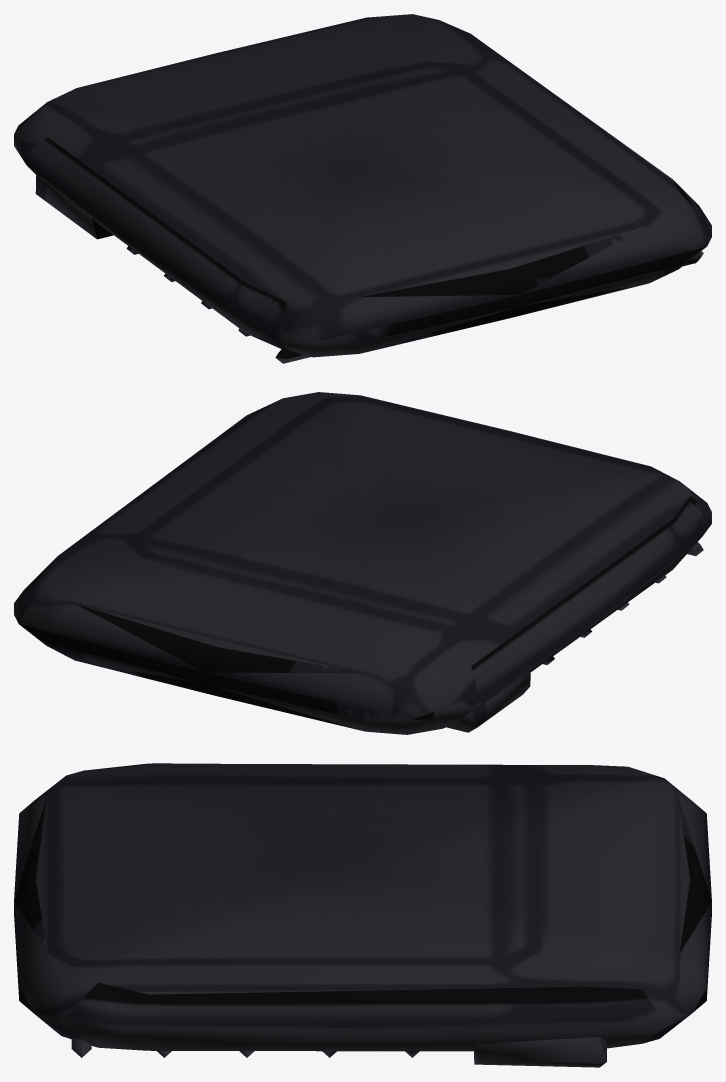
The model's file is Tano_BotaDer_Negro.fbx.
3 views of the same model, one above another, from view 1: azimuth 30°, elevation 25°; view 2: azimuth 150°, elevation 25°; view 3: azimuth 270°, elevation 25° (orthographic). The views are drawn at different scales.
Parts seen in each view (by area): view 1: Tano_BotaDer_Negro; view 2: Tano_BotaDer_Negro; view 3: Tano_BotaDer_Negro.
Part boxes in pixels (x1=…): Tano_BotaDer_Negro: x1=14, y1=14, x2=711, y2=363; Tano_BotaDer_Negro: x1=14, y1=392, x2=711, y2=734; Tano_BotaDer_Negro: x1=14, y1=763, x2=711, y2=1067.
Bounding box in the file's own units: 1.27 × 0.1964 × 1.51.
